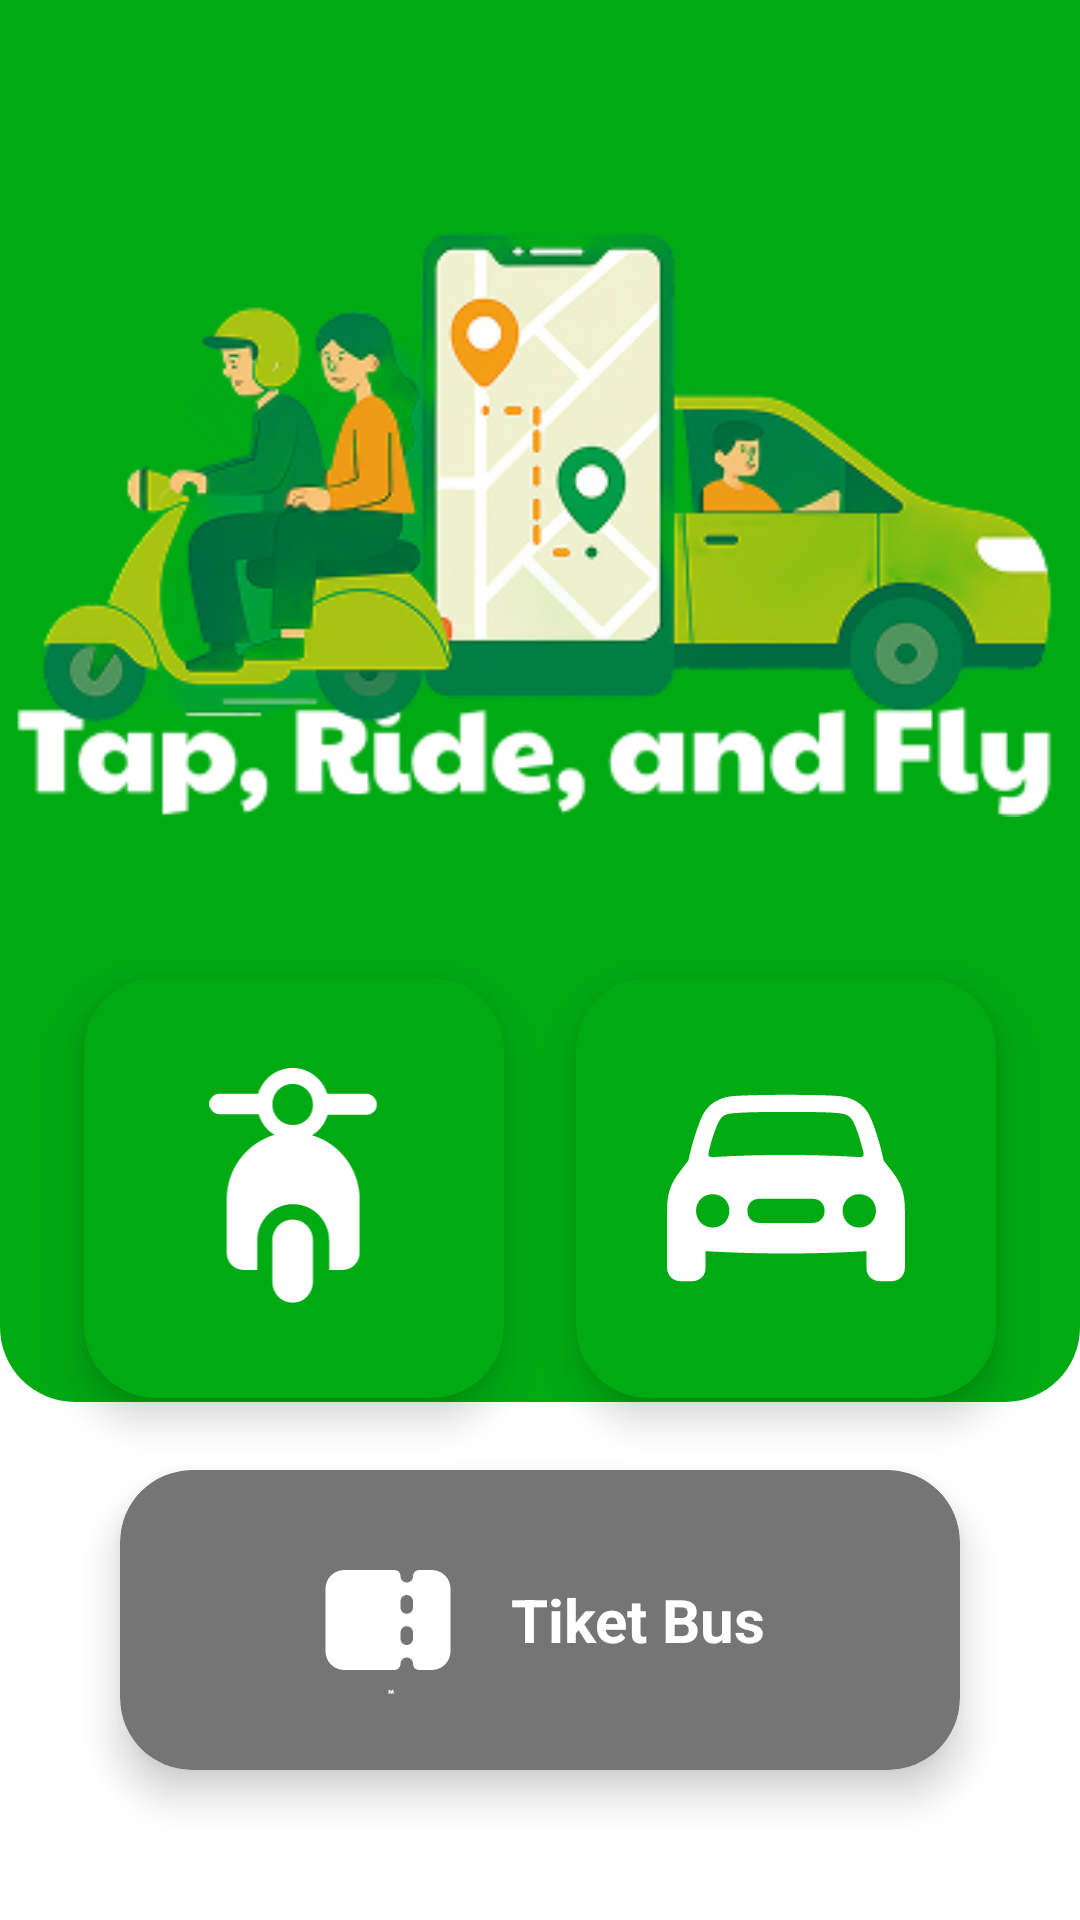

Screen size 1080w x 1920h. Icon name, then its box in pixels as region(x1, y1, x2, y2):
mobil: region(667, 1094, 905, 1282)
motor: region(209, 1068, 378, 1303)
